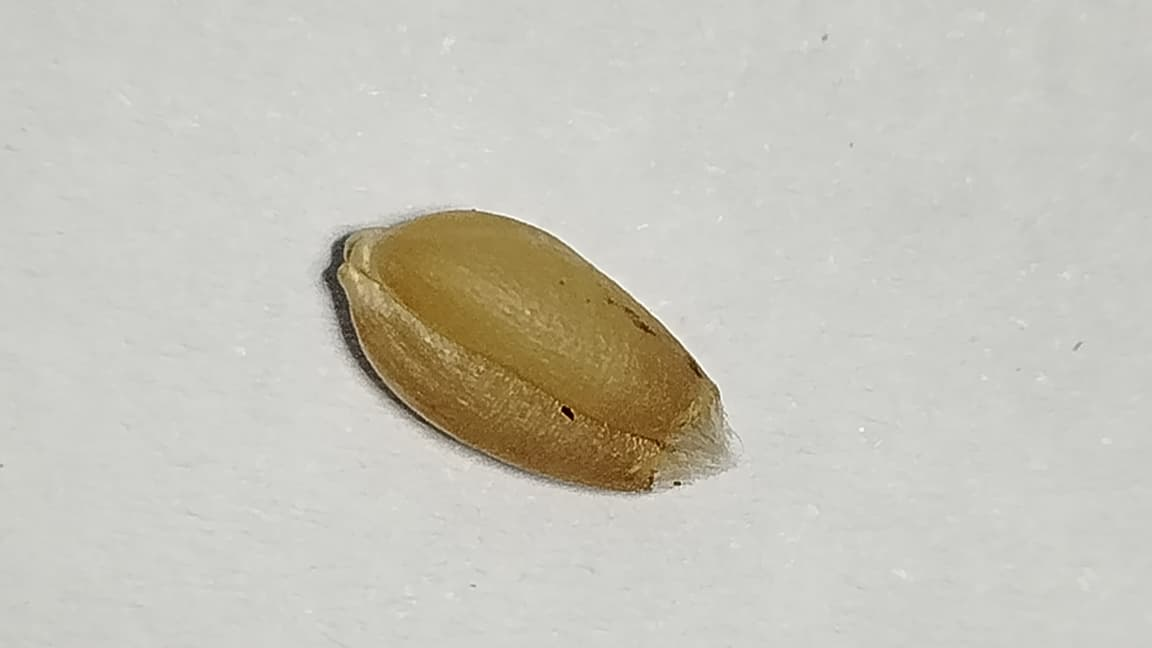healthy: (338, 212, 730, 489)
